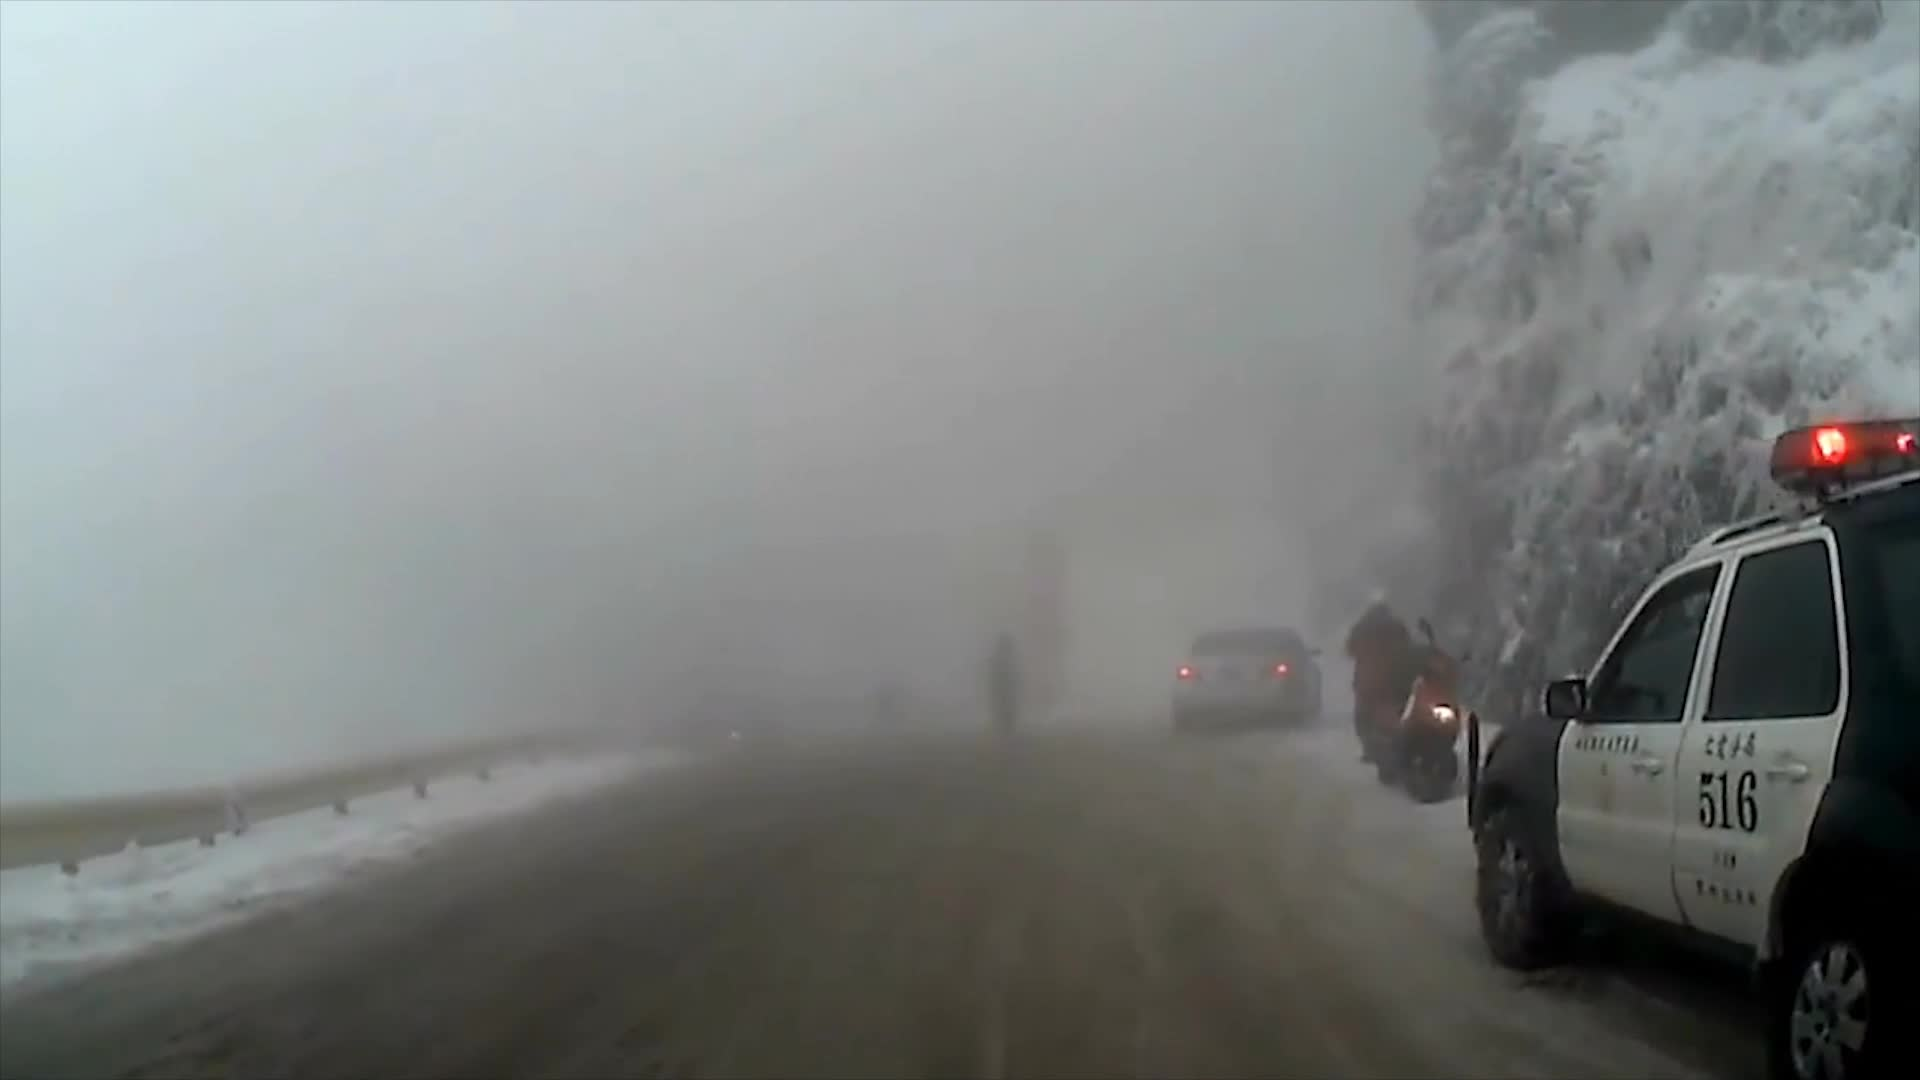pedestrian: (1339, 587, 1416, 759), (987, 629, 1023, 746)
vehicle: (1460, 414, 1916, 1080), (1171, 625, 1326, 741)
